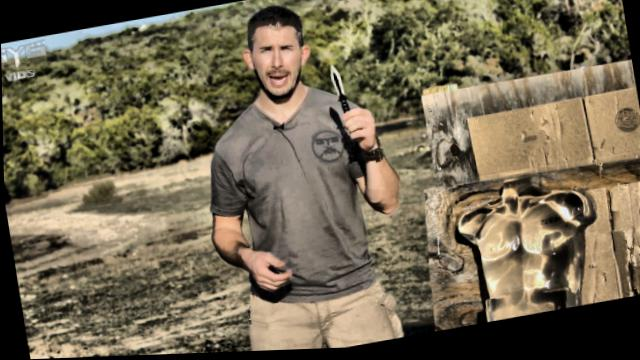knife: (321, 55, 376, 144)
